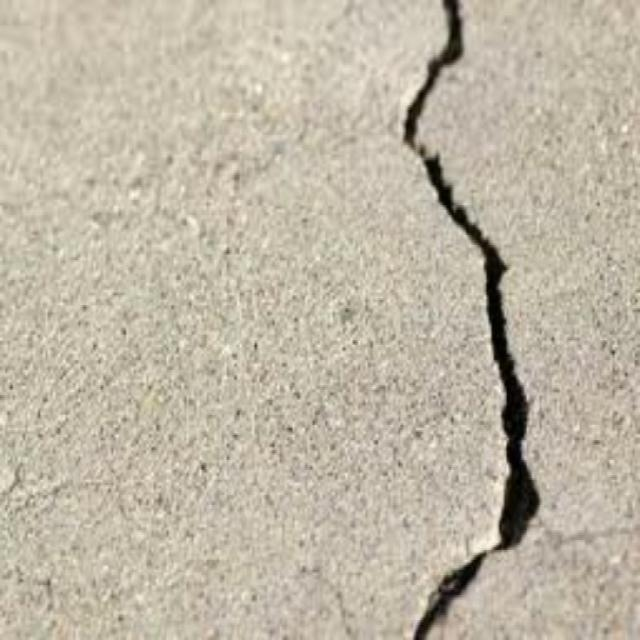Longitudinal: (396, 2, 546, 640)
